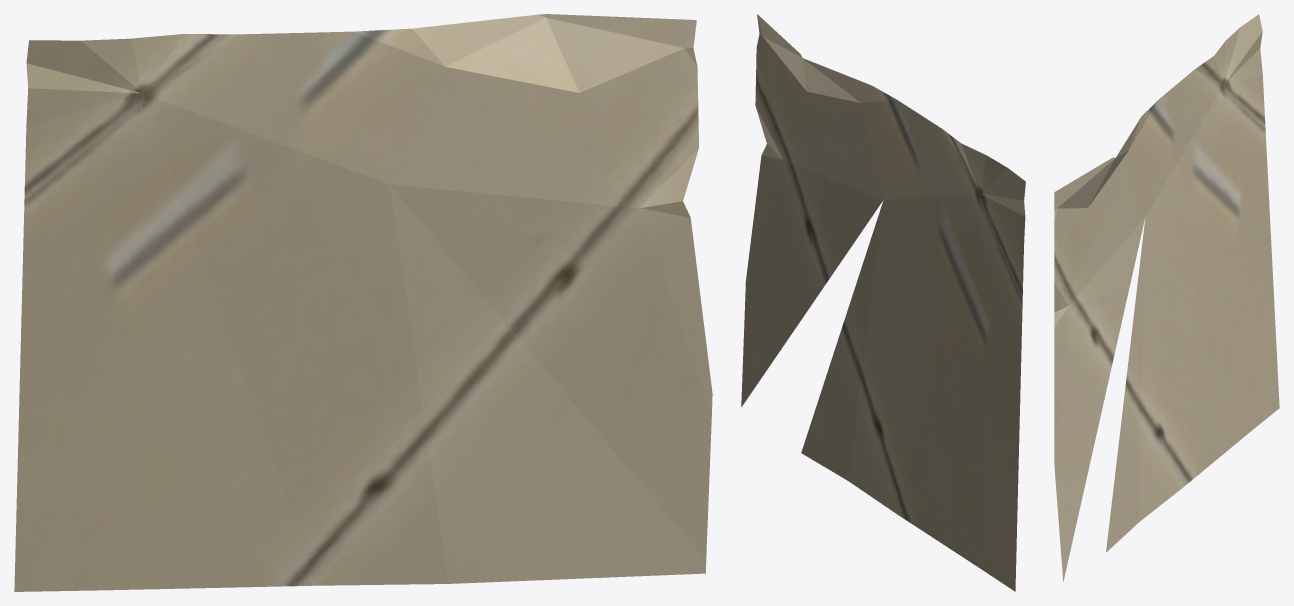
3 renders of one model, left to right at view 1: azimuth 30°, elevation 25°; view 2: azimuth 150°, elevation 25°; view 3: azimuth 270°, elevation 25°, orthographic. The views are drawn at different scales.
Bounding box in the file's own units: 0.8374 × 0.8374 × 0.4337.
3 materials, 3 textured.
